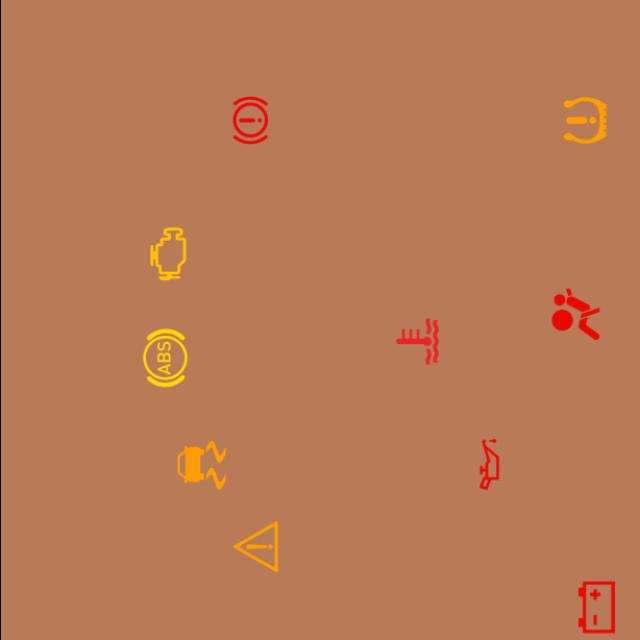Anti Lock Braking System: (132, 326, 196, 390)
Braking System Issue: (218, 89, 282, 152)
Charging System Issue: (564, 575, 628, 639)
Check Engine: (136, 222, 200, 286)
Electronic Stability Problem -ESP-: (168, 433, 232, 498)
Engine Overheating Warning Light: (384, 310, 448, 374)
Low Engine Oil Warning Light: (456, 432, 520, 497)
Low Tire Pressure Warning Light: (552, 89, 616, 152)
Master warning light: (223, 514, 287, 578)
SRS-Airbag: (543, 282, 607, 346)
